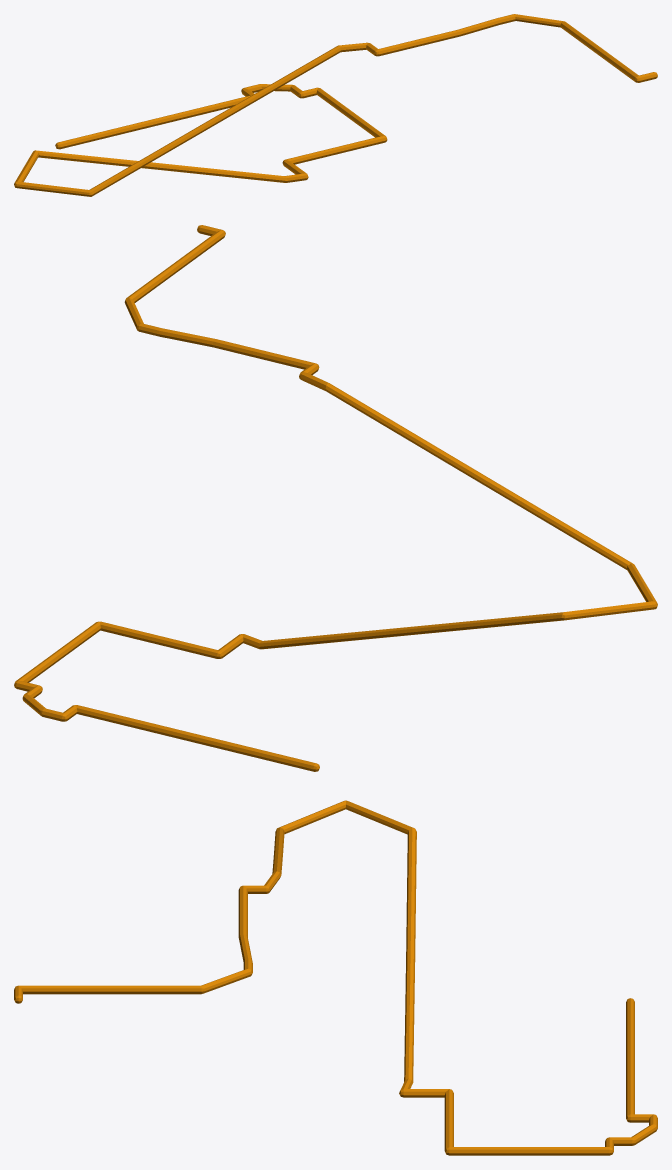
The picture shows the model from 3 angles, top to bottom: view 1: azimuth 30°, elevation 25°; view 2: azimuth 150°, elevation 25°; view 3: azimuth 270°, elevation 25°; orthographic projection. The views are drawn at different scales.
Size of the model in its own units: 1563 by 520 by 1407.
